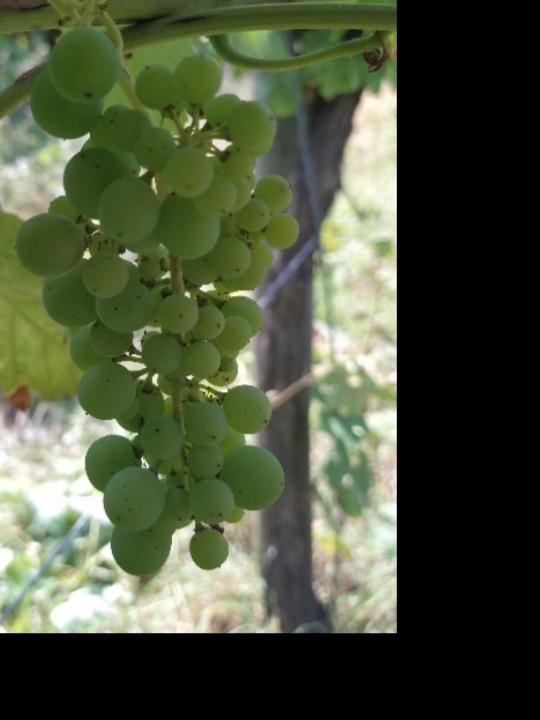grape: (7, 12, 306, 582)
